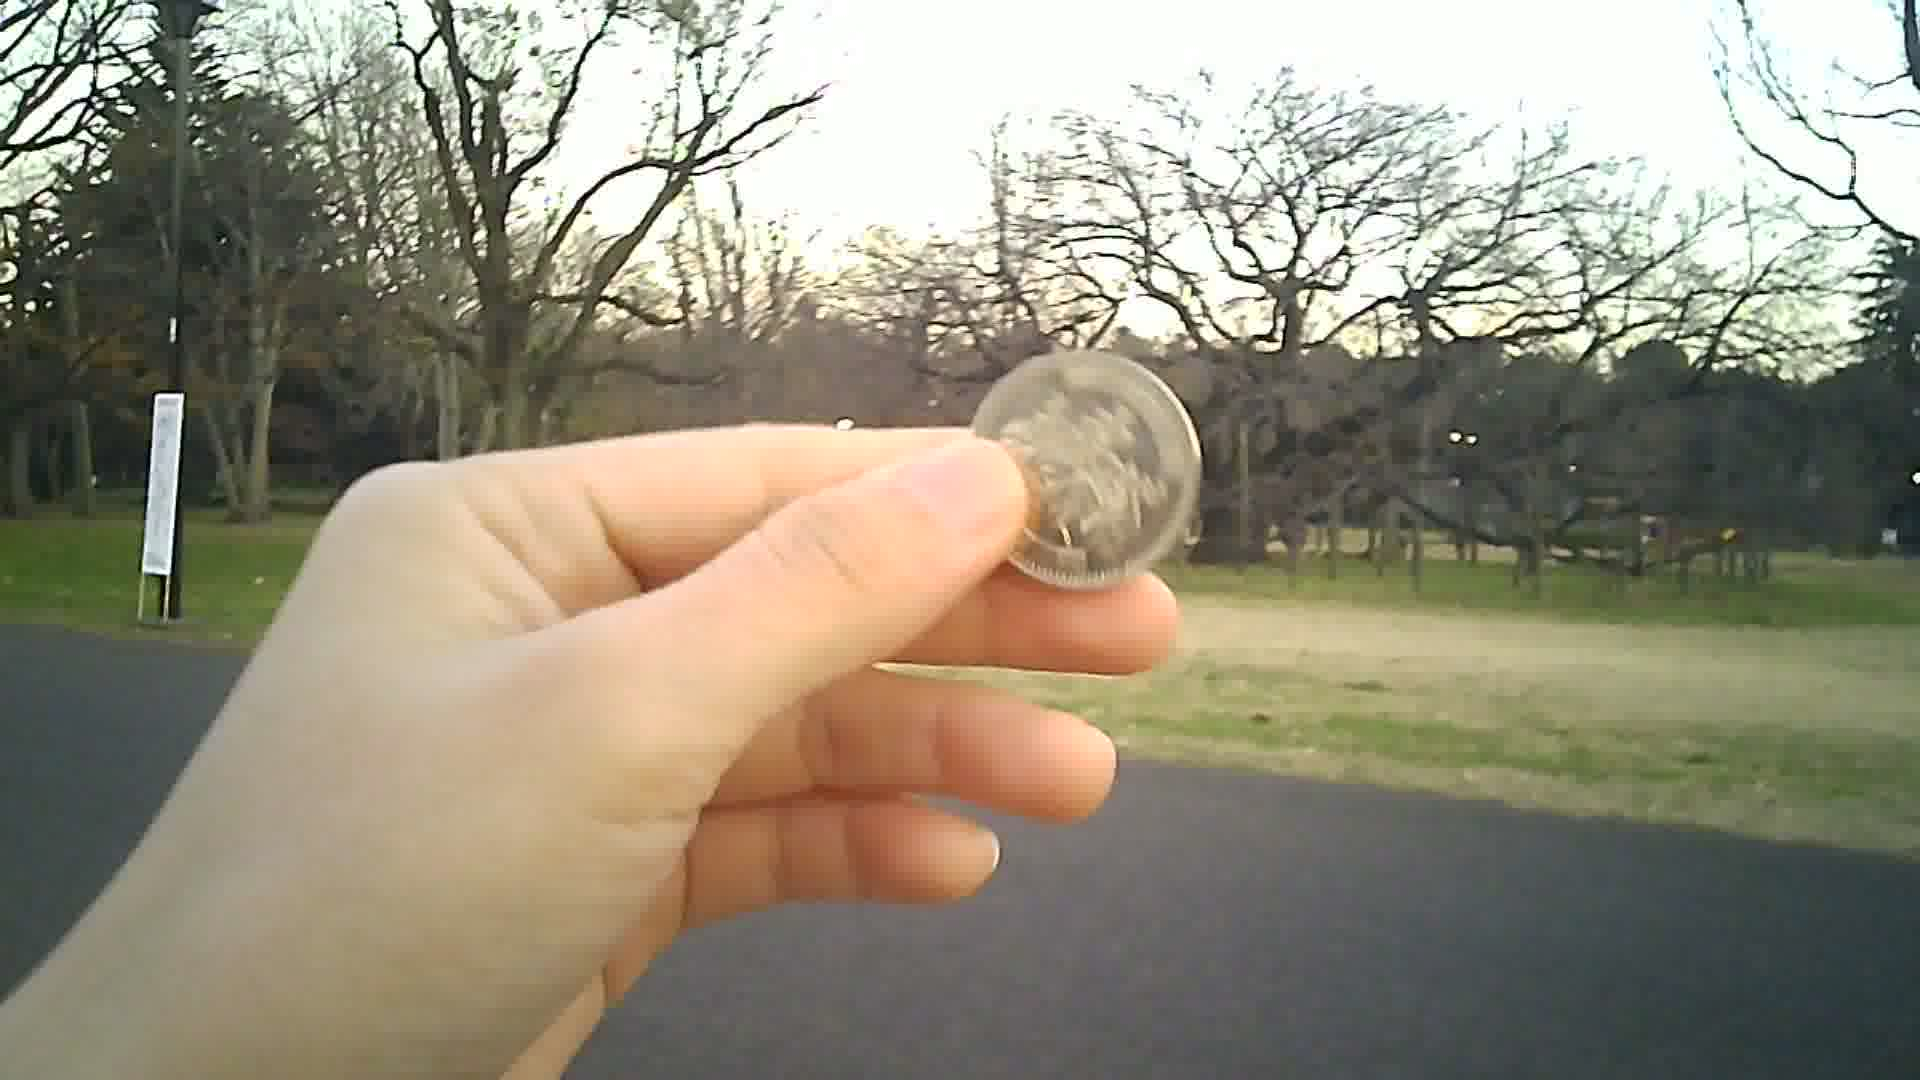500 Yen: (957, 336, 1212, 599)
